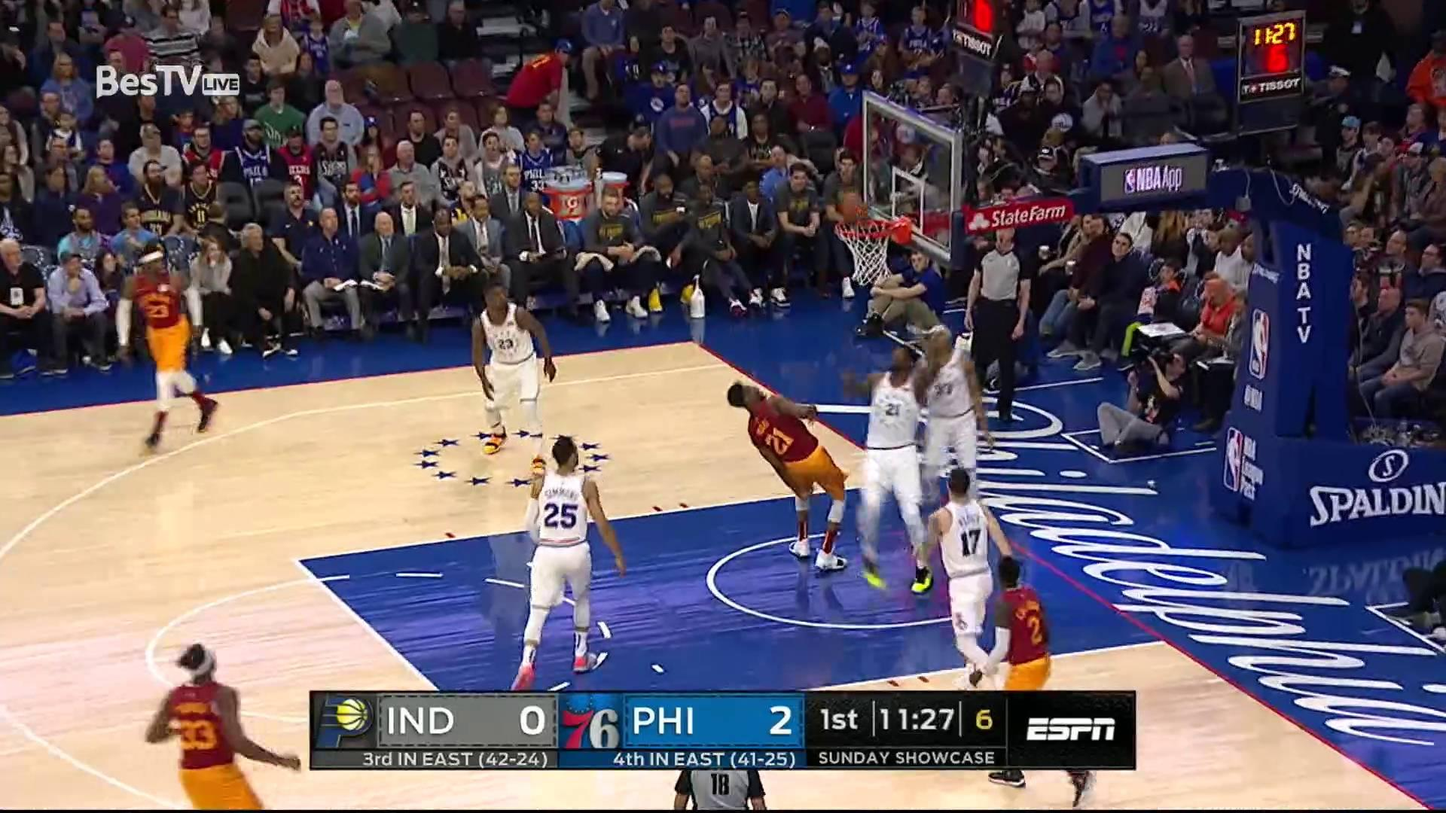basketball: (837, 191, 867, 221)
